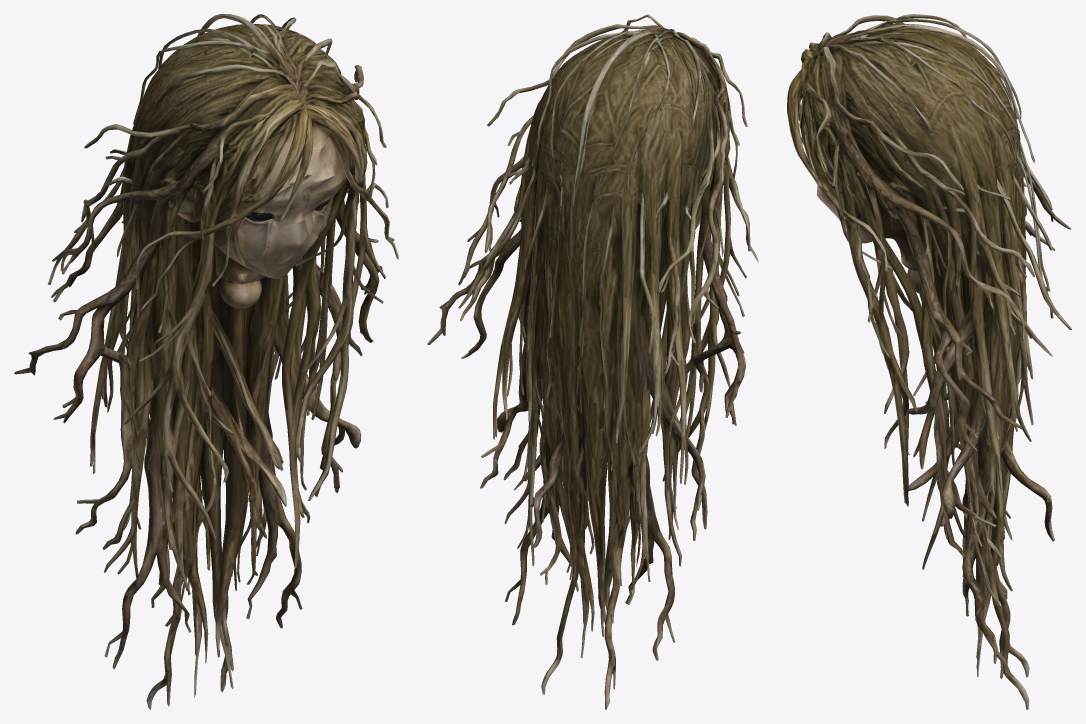
The model's file is head.fbx.
3 renders of one model, left to right at view 1: azimuth 30°, elevation 25°; view 2: azimuth 150°, elevation 25°; view 3: azimuth 270°, elevation 25°, orthographic. The views are drawn at different scales.
Visible parts, largest first — view 1: Part; view 2: Part; view 3: Part.
Boxes of the visible parts, x1,y1,x2,y2 form: Part: [14, 14, 398, 709]; Part: [427, 14, 758, 709]; Part: [787, 14, 1071, 709].
Size of the model in its own units: 0.5073 by 1 by 0.3862.
